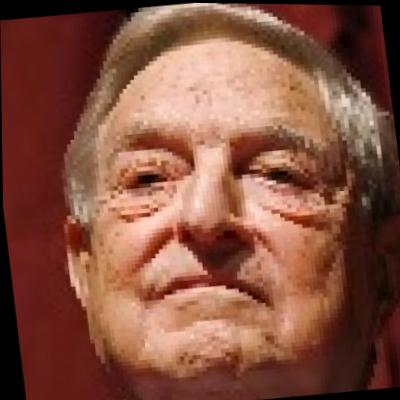sad: (87, 67, 354, 395)
